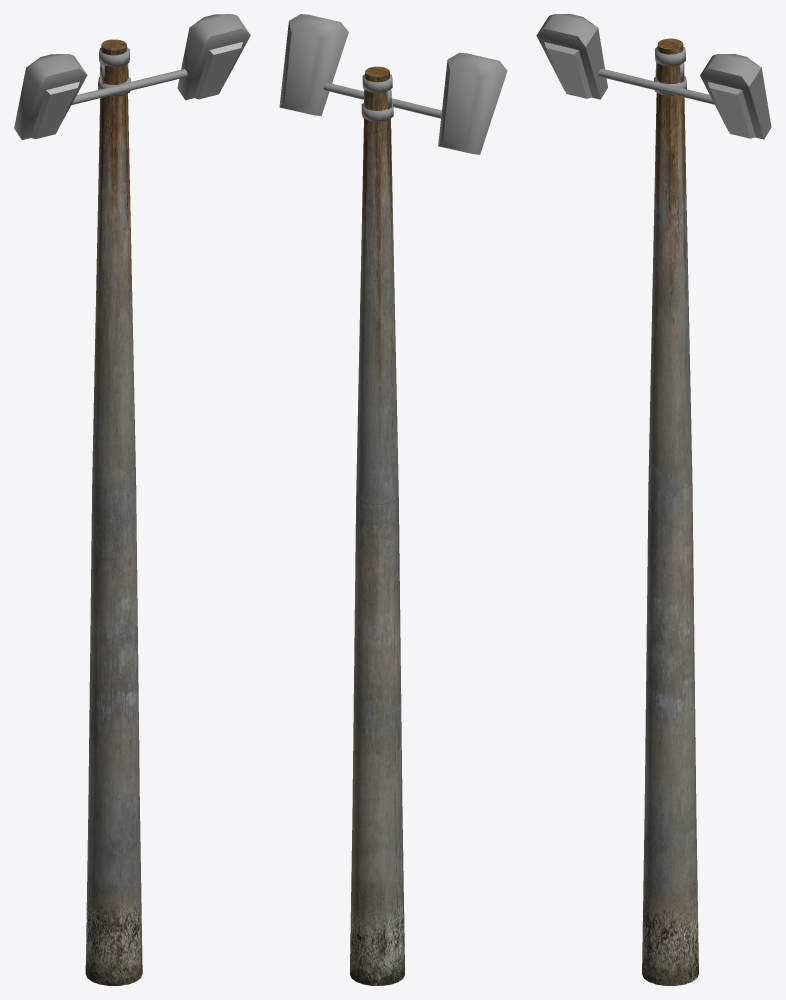
File: RoadLamp3_3.FBX
3 views of the same model, side by side, from view 1: azimuth 30°, elevation 25°; view 2: azimuth 150°, elevation 25°; view 3: azimuth 330°, elevation 25° (orthographic). The views are drawn at different scales.
Visible parts, largest first — view 1: LampPillar, LampLight; view 2: LampPillar, LampLight; view 3: LampPillar, LampLight.
Boxes of the visible parts, x1=… form: LampPillar: x1=85, y1=39, x2=142, y2=985; LampLight: x1=14, y1=14, x2=250, y2=139; LampPillar: x1=350, y1=66, x2=404, y2=985; LampLight: x1=279, y1=14, x2=507, y2=154; LampPillar: x1=642, y1=38, x2=698, y2=985; LampLight: x1=536, y1=14, x2=771, y2=139.
Bounding box in the file's own units: 33.35 × 143 × 12.24.
